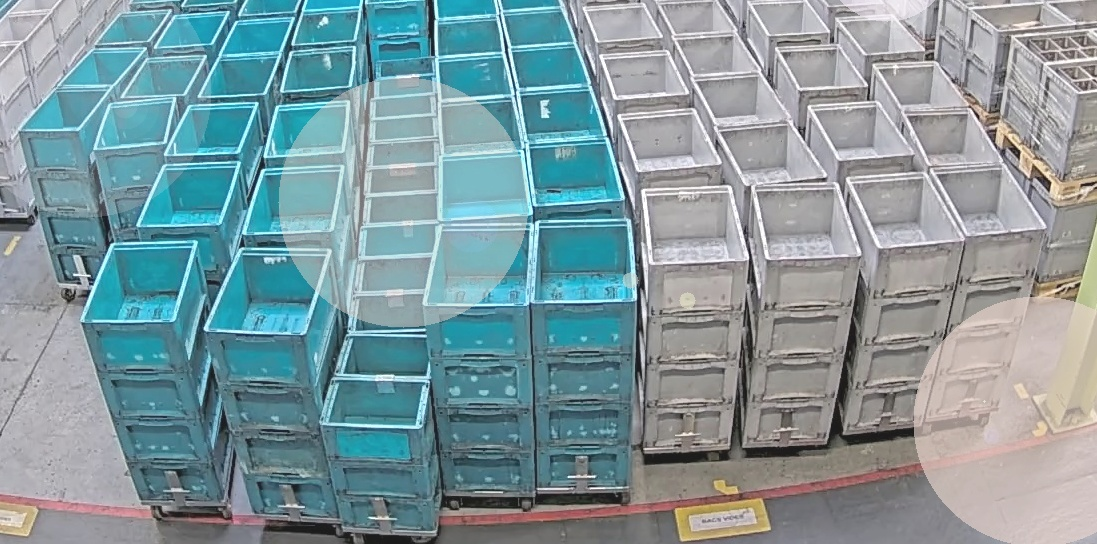4G: (840, 172, 968, 437), (741, 180, 864, 449), (924, 164, 1047, 426), (641, 182, 751, 454)
B4: (77, 240, 229, 508), (201, 244, 342, 526), (421, 222, 539, 499), (533, 218, 639, 496), (92, 95, 181, 248)
B8: (316, 331, 439, 533)
